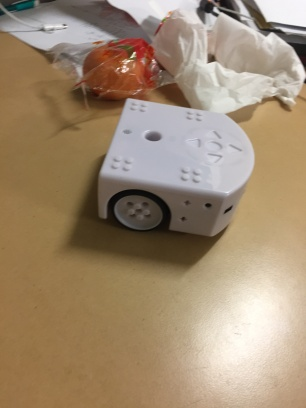thymio: (88, 91, 260, 243)
